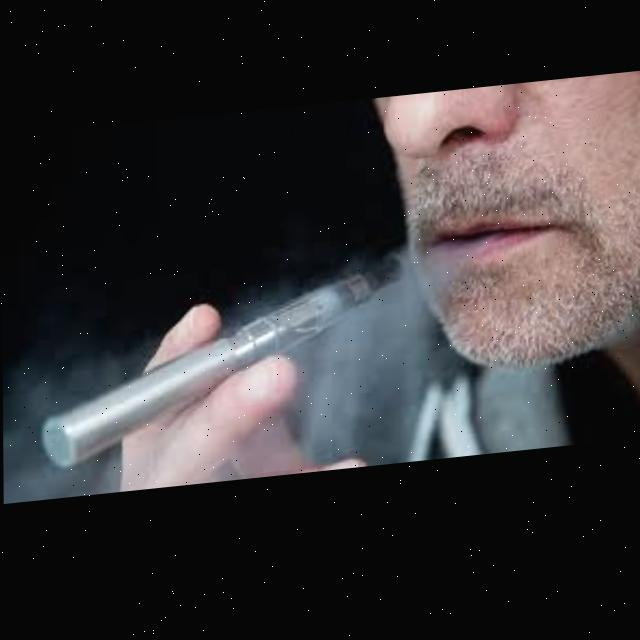vape: (40, 261, 405, 471)
